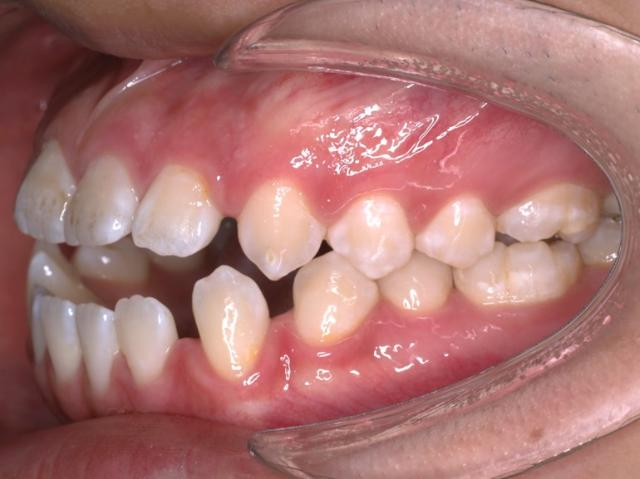canine class I: (191, 170, 381, 390)
molar class III 1/2: (453, 164, 603, 316)
